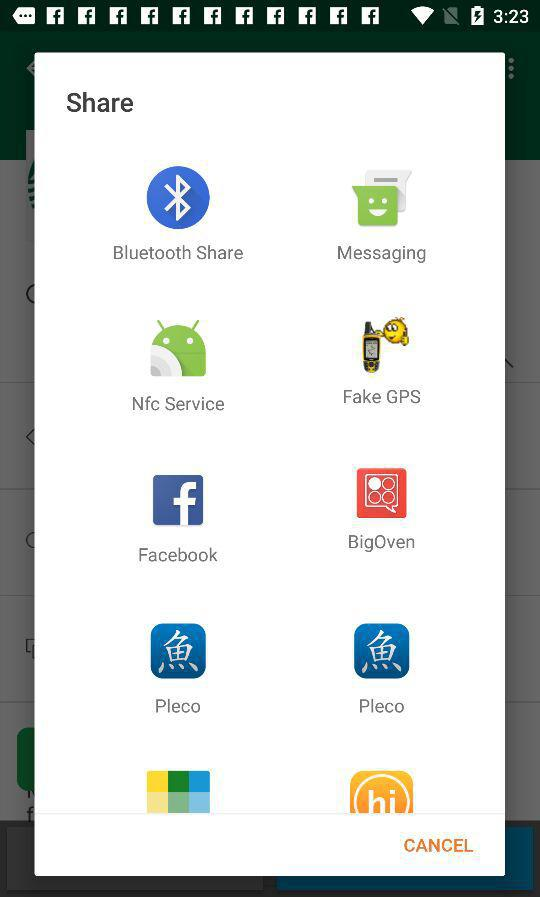Icon: (147, 167, 211, 230), (153, 475, 204, 526)
Image: (352, 171, 412, 227), (354, 624, 410, 679), (151, 624, 207, 679), (152, 320, 206, 377), (361, 317, 409, 374), (350, 771, 414, 813), (357, 468, 407, 519), (148, 772, 210, 813)
Modal: (35, 53, 505, 876)
Text: (115, 245, 244, 260), (338, 246, 426, 264), (133, 396, 225, 411), (68, 93, 134, 113), (349, 534, 415, 553), (139, 547, 218, 562), (344, 389, 420, 404), (404, 838, 474, 853), (360, 699, 405, 713), (156, 699, 201, 713)
UpperTaskBar: (1, 1, 540, 33)
